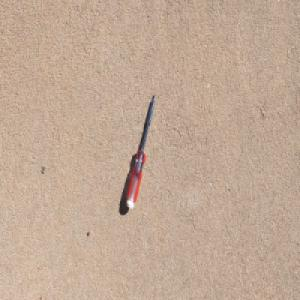Screwdriver: (126, 91, 157, 211)
